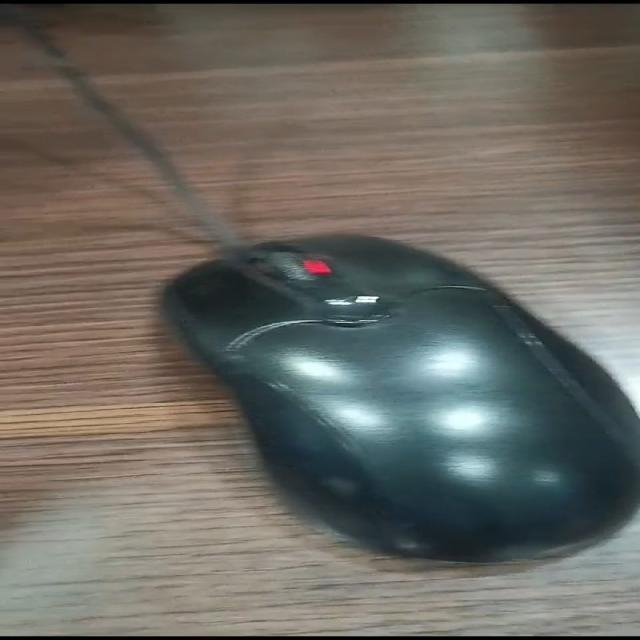mouse: (134, 185, 640, 602)
